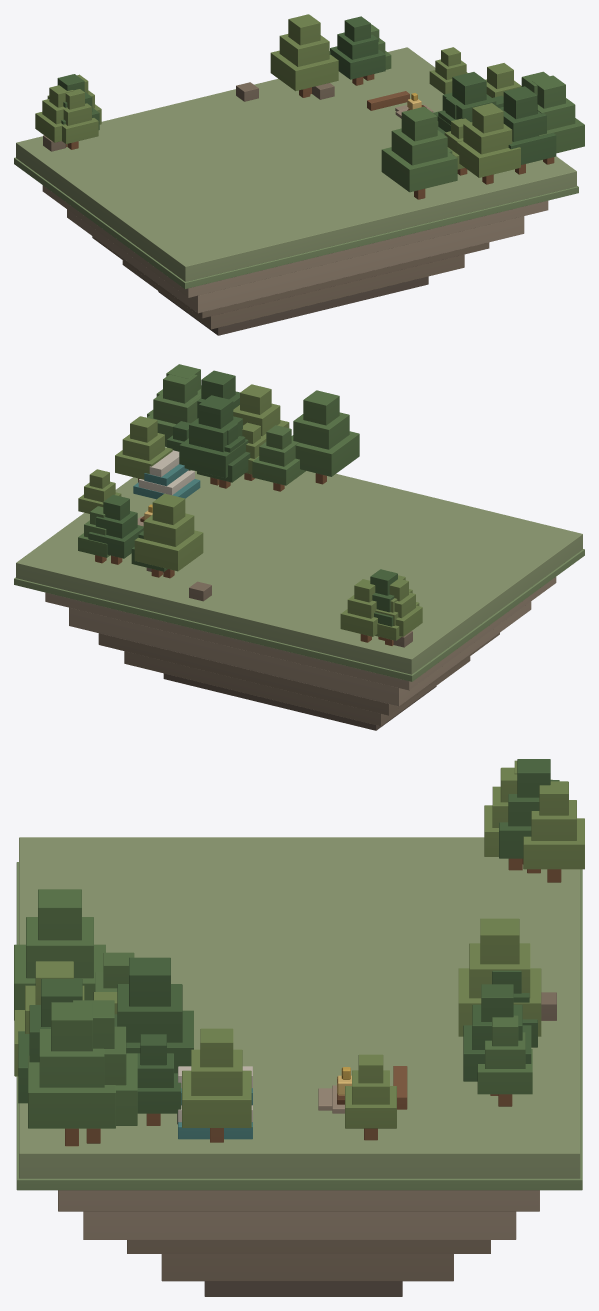
File: region_25.glb
3 views of the same model, one above another, from view 1: azimuth 30°, elevation 25°; view 2: azimuth 150°, elevation 25°; view 3: azimuth 270°, elevation 25° (orthographic). The views are drawn at different scales.
Parts seen in each view (by area): view 1: region_25_static; view 2: region_25_static; view 3: region_25_static.
Part boxes in pixels (<box>): region_25_static: <box>14,14,584,335</box>; region_25_static: <box>14,364,584,730</box>; region_25_static: <box>14,759,584,1296</box>.
Size of the model in its own units: 16.48 by 8.41 by 12.21.
